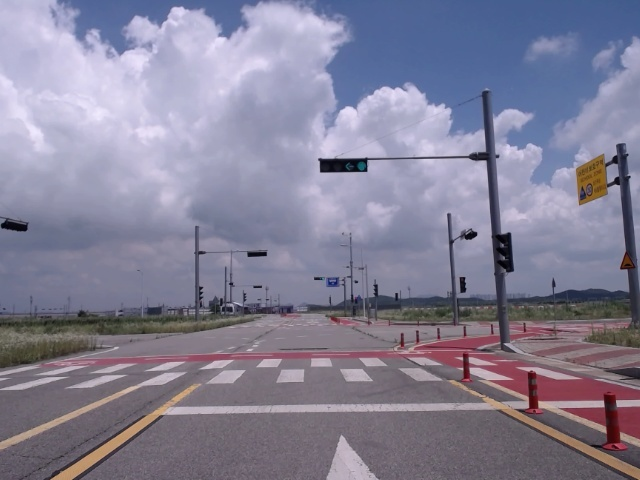all_green_4: (319, 158, 367, 171)
